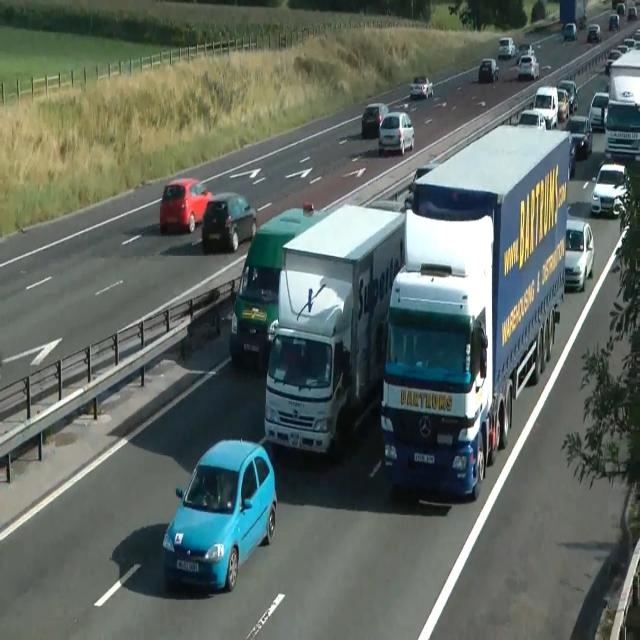bus: (162, 436, 277, 593), (160, 177, 212, 234), (590, 162, 630, 218), (564, 217, 594, 291), (404, 166, 431, 210), (361, 102, 389, 138), (409, 163, 439, 192), (588, 92, 608, 132), (557, 79, 579, 113), (518, 108, 546, 130), (409, 76, 433, 100), (517, 54, 539, 80), (478, 58, 499, 84), (556, 87, 570, 123), (605, 49, 623, 75), (566, 133, 576, 179), (516, 43, 534, 65), (498, 36, 515, 58), (564, 22, 578, 41), (587, 24, 601, 42), (625, 2, 637, 20), (608, 14, 619, 31), (623, 37, 635, 51), (632, 27, 640, 41), (616, 2, 624, 15)
car: (380, 208, 495, 501)
jeep: (228, 201, 328, 371), (201, 190, 256, 252), (378, 110, 414, 156), (564, 114, 592, 158), (532, 84, 558, 129)
minibus: (380, 123, 570, 501), (264, 202, 406, 457), (604, 46, 640, 161), (560, 0, 586, 30)
